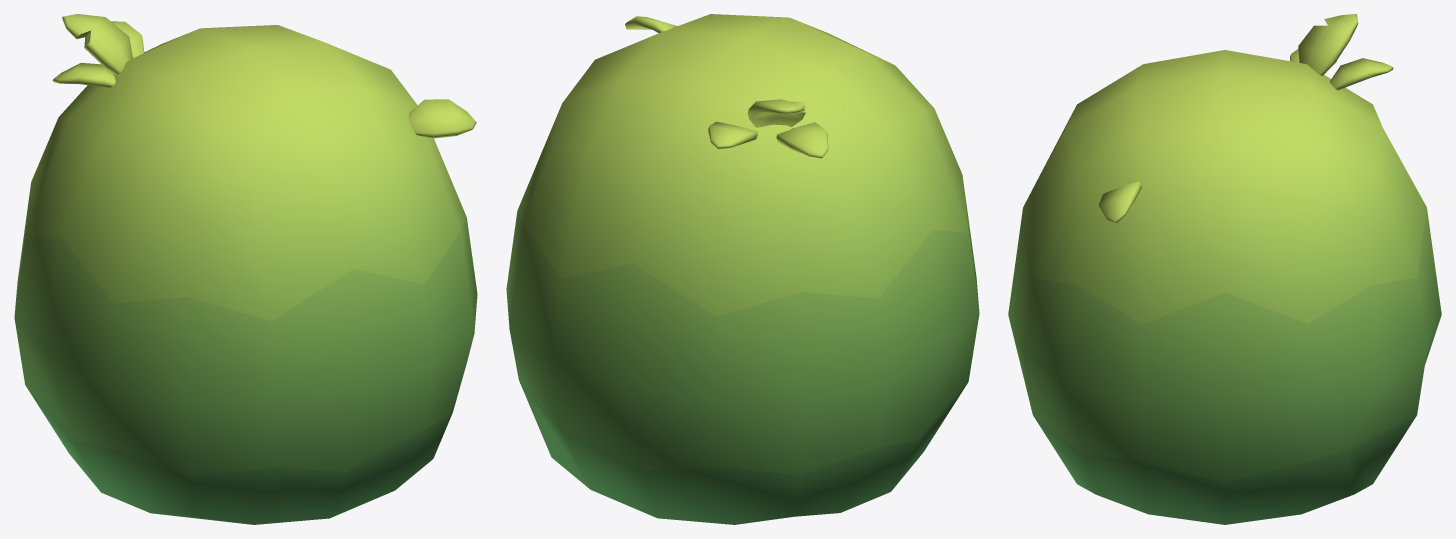
The model's file is bush 03_toon_material_0.001.glb.
The picture shows the model from 3 angles, left to right: view 1: azimuth 30°, elevation 25°; view 2: azimuth 150°, elevation 25°; view 3: azimuth 270°, elevation 25°; orthographic projection. The views are drawn at different scales.
Parts seen in each view (by area): view 1: bush 03_toon_material_0.001; view 2: bush 03_toon_material_0.001; view 3: bush 03_toon_material_0.001.
Part boxes in pixels (bbox=[...]): bush 03_toon_material_0.001: bbox=[14, 14, 477, 524]; bush 03_toon_material_0.001: bbox=[506, 14, 979, 524]; bush 03_toon_material_0.001: bbox=[1008, 14, 1441, 524].
Bounding box in the file's own units: 1.68 × 1.73 × 1.68.
Materials: 1 (1 with a texture image).
